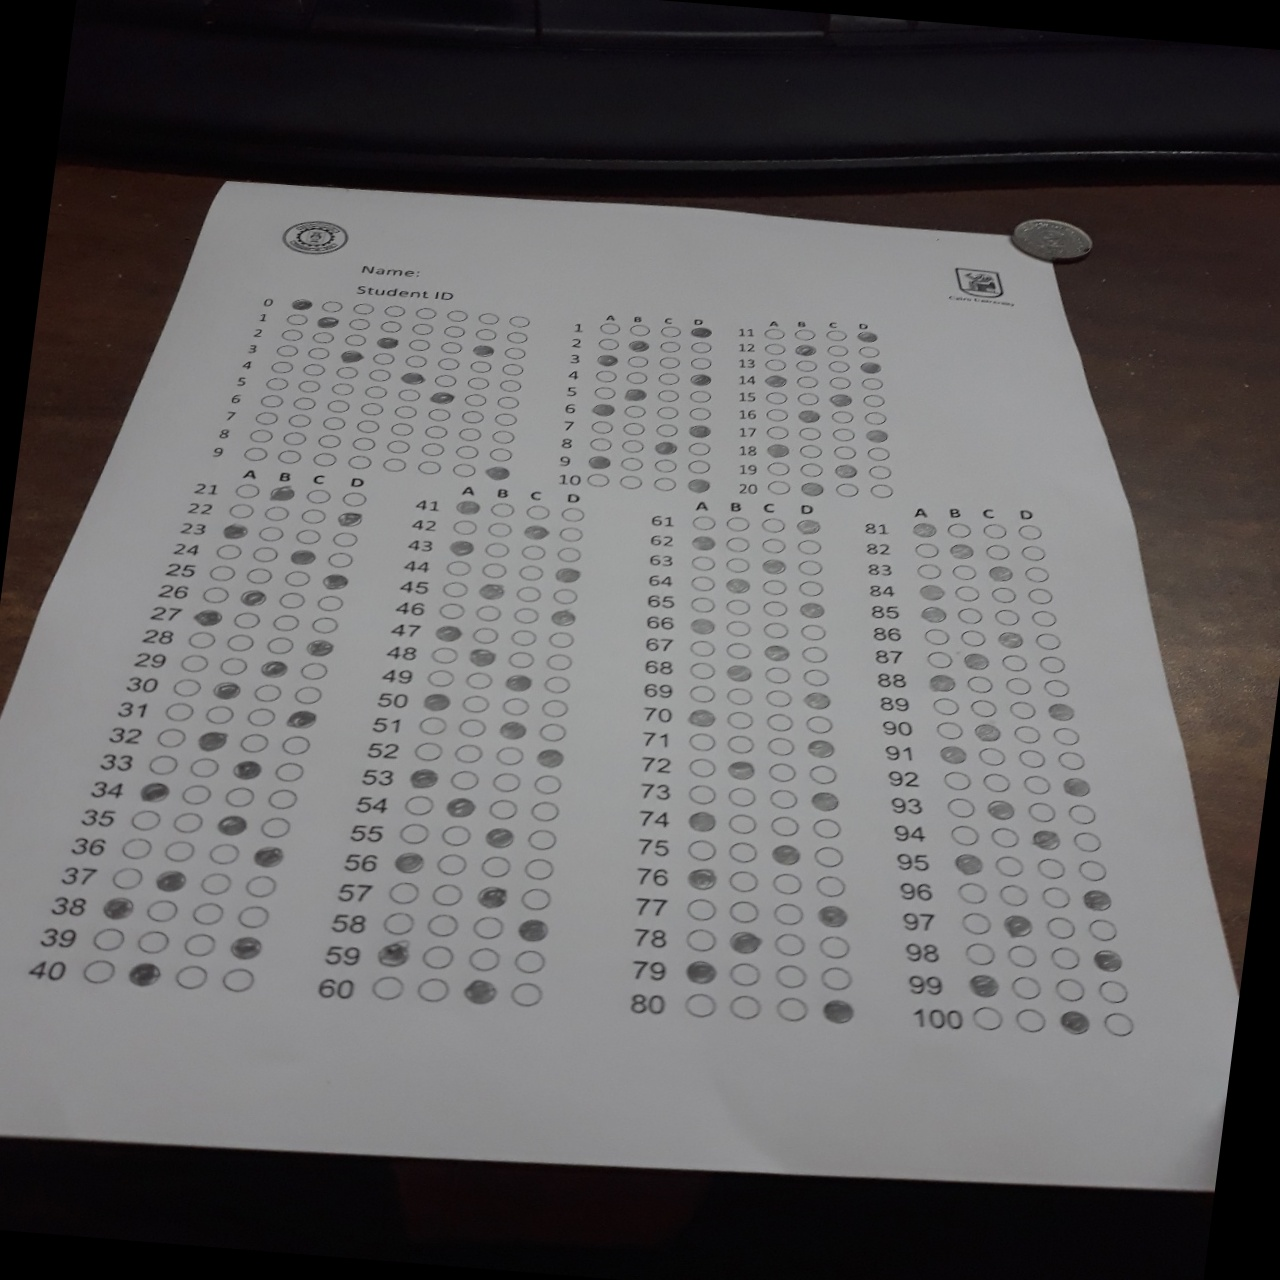not-c: (769, 899, 806, 927), (815, 932, 851, 960), (109, 863, 145, 891), (81, 958, 117, 986), (468, 944, 504, 972), (380, 908, 416, 937), (523, 853, 559, 881), (433, 851, 469, 879), (523, 825, 559, 853), (681, 896, 719, 922), (768, 870, 805, 897), (821, 965, 855, 994), (1101, 1010, 1136, 1039), (774, 961, 809, 989), (147, 896, 182, 924), (233, 901, 268, 930), (132, 926, 168, 954), (682, 926, 719, 953), (190, 899, 226, 926), (173, 964, 210, 990), (89, 926, 125, 953), (509, 980, 545, 1007), (512, 948, 549, 975), (482, 795, 518, 822), (726, 867, 763, 893), (1013, 1007, 1047, 1035), (969, 1005, 1003, 1033), (774, 994, 808, 1022), (728, 992, 762, 1020), (682, 990, 716, 1019), (727, 961, 761, 989), (771, 930, 805, 958), (220, 967, 256, 994), (370, 974, 406, 1001), (421, 942, 456, 969), (424, 911, 459, 938), (472, 914, 508, 941), (431, 880, 467, 907), (397, 818, 433, 845), (724, 898, 761, 924), (243, 872, 279, 898), (178, 931, 215, 956), (415, 976, 451, 1002), (387, 879, 423, 905), (516, 885, 552, 911), (531, 796, 567, 822), (479, 852, 515, 878), (442, 824, 477, 850), (998, 881, 1032, 907), (804, 762, 839, 787), (685, 755, 720, 779), (959, 910, 992, 935), (811, 844, 845, 869), (810, 815, 844, 839), (1085, 915, 1117, 941), (1006, 942, 1039, 967), (687, 837, 720, 862), (291, 683, 324, 708), (964, 941, 998, 965), (768, 813, 802, 837), (726, 812, 760, 836), (726, 840, 760, 864), (765, 762, 799, 785), (1049, 945, 1081, 969), (1097, 980, 1129, 1005), (955, 880, 988, 904), (1039, 885, 1071, 908), (1042, 915, 1075, 939), (1053, 978, 1085, 1001), (687, 783, 720, 806), (724, 785, 757, 809), (767, 787, 799, 810), (813, 874, 847, 897), (481, 536, 515, 558), (293, 524, 324, 549), (1024, 799, 1056, 823), (1010, 976, 1042, 1000), (244, 704, 275, 728), (207, 840, 239, 864), (279, 734, 309, 757), (179, 782, 210, 805), (200, 872, 231, 896), (948, 824, 980, 846), (993, 855, 1024, 877), (203, 704, 234, 727), (122, 836, 154, 858), (452, 743, 485, 764), (501, 694, 533, 715), (509, 602, 542, 624), (165, 699, 195, 722), (267, 788, 297, 811), (1015, 747, 1046, 769), (946, 796, 976, 818), (1035, 857, 1065, 879), (240, 731, 271, 754), (148, 753, 178, 775), (275, 760, 306, 782), (166, 839, 197, 862), (542, 697, 572, 720), (504, 648, 535, 670), (411, 741, 445, 761), (989, 828, 1021, 849), (537, 722, 568, 743), (544, 673, 576, 694), (517, 540, 549, 561), (445, 558, 477, 579), (438, 578, 470, 599), (493, 745, 526, 765), (1073, 830, 1102, 852), (1078, 859, 1108, 881), (188, 755, 217, 777), (261, 817, 291, 839), (130, 808, 159, 830), (173, 811, 203, 833), (1012, 723, 1042, 744), (1055, 750, 1085, 771), (981, 772, 1012, 794), (1021, 774, 1051, 795), (157, 726, 188, 747), (225, 785, 256, 806), (404, 794, 435, 815), (450, 768, 481, 789), (490, 771, 520, 792), (457, 717, 488, 738), (417, 714, 448, 735), (459, 692, 490, 713), (508, 625, 538, 646), (519, 561, 550, 583), (481, 558, 511, 579), (544, 651, 576, 670), (942, 769, 972, 790), (1065, 803, 1095, 824), (764, 735, 794, 756), (726, 709, 755, 730), (804, 712, 833, 733), (764, 686, 794, 707), (532, 774, 563, 794), (512, 584, 543, 604), (726, 686, 754, 707), (688, 659, 716, 680), (958, 628, 987, 648), (1051, 726, 1081, 745), (976, 745, 1006, 765), (688, 731, 717, 751), (726, 734, 755, 754), (760, 578, 790, 597), (470, 626, 501, 645), (474, 602, 504, 621), (1003, 675, 1032, 695), (1042, 678, 1070, 697), (969, 699, 998, 719), (932, 697, 960, 717), (767, 712, 795, 731), (689, 682, 717, 702), (724, 535, 753, 554), (213, 542, 241, 561), (331, 529, 359, 549), (275, 590, 304, 610), (688, 639, 717, 658), (795, 557, 824, 576), (795, 536, 824, 554), (209, 563, 238, 581), (202, 585, 231, 604), (232, 611, 261, 629), (246, 567, 275, 586), (299, 508, 328, 526), (302, 486, 332, 505), (339, 490, 368, 509), (326, 549, 355, 567), (284, 570, 313, 588), (314, 594, 343, 613), (268, 611, 298, 629), (265, 635, 294, 654), (218, 656, 247, 675), (300, 661, 329, 680), (436, 601, 465, 620), (430, 645, 459, 663), (556, 525, 585, 544), (463, 670, 493, 688), (486, 499, 517, 517), (1034, 632, 1062, 651), (922, 627, 951, 646), (926, 651, 954, 669), (966, 674, 994, 693), (1008, 701, 1036, 720), (802, 668, 830, 687), (797, 622, 825, 641), (724, 618, 753, 636), (689, 594, 717, 613), (724, 597, 753, 615), (690, 553, 719, 572), (724, 554, 753, 573), (760, 536, 788, 554), (724, 515, 753, 533), (252, 543, 280, 561), (254, 523, 282, 542), (311, 615, 339, 634), (227, 632, 256, 651), (186, 632, 215, 651), (173, 678, 202, 696), (547, 628, 576, 647), (524, 502, 552, 520), (1019, 543, 1048, 560), (761, 620, 790, 638), (253, 685, 282, 702), (427, 669, 456, 687), (552, 586, 581, 604), (553, 544, 583, 561), (556, 504, 585, 522), (485, 519, 515, 537), (449, 517, 478, 535), (937, 721, 964, 740), (764, 666, 791, 685), (1015, 523, 1043, 540), (980, 522, 1008, 539), (983, 543, 1012, 560), (1000, 653, 1028, 670), (724, 641, 753, 659), (799, 646, 828, 663), (760, 600, 788, 618), (797, 579, 825, 597), (688, 573, 716, 591), (689, 513, 717, 531), (760, 517, 788, 535), (764, 477, 792, 495), (263, 504, 291, 522), (179, 653, 207, 670), (942, 520, 972, 537), (949, 564, 979, 580), (1039, 656, 1065, 674), (465, 373, 492, 390), (911, 542, 939, 558), (1022, 566, 1050, 583), (1024, 587, 1053, 604), (953, 585, 981, 601), (1029, 610, 1057, 626), (915, 563, 942, 579), (990, 586, 1017, 602), (451, 463, 478, 479), (413, 302, 440, 319), (331, 379, 358, 395), (305, 343, 332, 360), (282, 428, 309, 444), (272, 341, 299, 358), (229, 501, 256, 517), (955, 607, 983, 622), (993, 608, 1021, 624), (835, 481, 860, 497), (597, 318, 622, 334), (490, 429, 516, 445), (461, 408, 486, 424), (409, 319, 435, 335), (359, 400, 384, 416), (311, 450, 336, 467), (316, 434, 342, 450), (322, 414, 348, 430), (350, 299, 376, 315), (301, 361, 327, 377), (297, 379, 322, 395), (287, 413, 313, 429), (268, 359, 294, 375), (284, 311, 309, 327), (491, 411, 518, 427), (458, 425, 485, 441), (241, 445, 268, 461), (869, 482, 893, 498), (867, 464, 892, 481), (794, 374, 818, 390), (653, 476, 678, 492), (620, 456, 645, 472), (626, 353, 651, 369), (381, 456, 406, 472), (396, 384, 421, 401), (292, 395, 316, 411), (260, 393, 285, 409), (765, 425, 791, 441), (618, 474, 644, 489), (659, 322, 685, 338), (625, 321, 651, 336), (624, 369, 649, 384), (597, 335, 622, 350), (488, 445, 513, 461), (452, 444, 478, 459), (462, 392, 488, 407), (425, 407, 451, 422), (414, 459, 440, 475), (386, 438, 411, 454), (388, 421, 414, 436), (354, 417, 380, 433), (347, 452, 373, 468), (343, 331, 369, 346), (336, 363, 362, 379), (347, 315, 373, 331), (318, 297, 343, 312), (309, 328, 335, 343), (277, 449, 302, 464), (247, 427, 273, 442), (278, 326, 304, 341), (232, 482, 258, 497), (799, 461, 823, 477), (862, 393, 885, 409), (763, 324, 787, 340), (794, 359, 821, 373), (392, 406, 418, 420), (377, 319, 404, 333), (350, 436, 377, 450), (866, 445, 891, 461), (833, 444, 858, 459), (798, 443, 823, 458), (798, 425, 823, 441), (831, 427, 856, 442), (830, 410, 855, 425), (862, 410, 886, 425), (829, 375, 853, 390), (764, 390, 789, 406), (653, 458, 678, 474), (622, 438, 647, 454), (655, 404, 680, 420), (656, 388, 681, 403), (656, 370, 681, 386), (658, 355, 682, 370), (658, 339, 682, 354), (587, 437, 612, 452), (593, 368, 618, 383), (422, 424, 447, 440), (422, 442, 447, 457), (372, 350, 396, 366), (368, 366, 393, 381), (253, 410, 278, 425), (689, 340, 715, 354), (688, 355, 714, 369), (403, 354, 429, 368), (381, 302, 407, 316), (363, 384, 389, 399), (264, 375, 290, 389), (764, 459, 788, 475), (860, 376, 884, 392), (764, 356, 788, 372), (622, 420, 646, 435), (654, 422, 678, 437), (622, 403, 646, 418), (796, 392, 821, 406), (764, 408, 789, 422), (826, 342, 851, 356), (687, 458, 712, 472), (593, 384, 618, 399), (591, 418, 615, 433), (585, 472, 610, 486), (408, 338, 433, 352), (327, 397, 352, 411), (762, 342, 788, 355), (856, 345, 881, 358), (688, 389, 714, 402), (470, 359, 493, 373), (474, 327, 497, 341), (442, 324, 465, 338), (436, 356, 459, 370), (434, 373, 457, 387), (794, 328, 818, 341), (823, 328, 847, 341), (826, 359, 851, 372), (688, 407, 713, 420), (687, 441, 712, 454), (498, 377, 520, 392), (478, 309, 501, 324), (445, 309, 469, 322), (441, 339, 464, 352), (502, 363, 525, 375), (506, 331, 527, 343), (498, 396, 519, 409), (509, 314, 530, 326), (505, 346, 526, 358)
taken-c: (685, 866, 722, 892), (683, 958, 720, 983), (686, 806, 719, 835), (815, 903, 849, 930), (464, 978, 498, 1005), (727, 930, 763, 954), (822, 998, 855, 1024), (393, 847, 425, 874), (375, 941, 409, 967), (409, 765, 443, 791), (483, 824, 517, 850), (1092, 948, 1124, 975), (969, 971, 1001, 998), (229, 935, 261, 961), (127, 961, 159, 987), (478, 883, 511, 908), (516, 915, 549, 941), (444, 794, 477, 819), (535, 745, 567, 771), (1081, 887, 1112, 913), (1001, 912, 1032, 938), (1061, 1009, 1091, 1035), (685, 706, 716, 730), (952, 851, 985, 874), (251, 845, 284, 869), (771, 842, 803, 865), (102, 896, 134, 919), (139, 781, 172, 803), (154, 869, 186, 891), (726, 757, 756, 781), (448, 536, 478, 559), (809, 790, 840, 812), (217, 813, 248, 836), (196, 731, 229, 753), (467, 644, 496, 667), (477, 579, 506, 602), (549, 605, 578, 628), (232, 758, 264, 779), (724, 662, 754, 685), (805, 737, 835, 760), (423, 689, 452, 712), (434, 622, 464, 644), (499, 719, 527, 741), (505, 669, 533, 692), (554, 563, 583, 585), (802, 688, 831, 709), (762, 642, 791, 663), (689, 615, 719, 636), (723, 574, 753, 595), (1062, 776, 1092, 796), (797, 601, 828, 621), (1046, 702, 1075, 722), (987, 563, 1016, 583), (947, 542, 976, 561), (910, 519, 939, 539), (919, 602, 948, 622), (927, 672, 956, 692), (973, 721, 1002, 741), (939, 744, 968, 764), (986, 799, 1015, 819), (1032, 830, 1061, 850), (761, 556, 790, 576), (998, 629, 1026, 649), (962, 651, 990, 670), (919, 583, 948, 601), (287, 709, 316, 728), (258, 660, 288, 678), (212, 682, 243, 700), (690, 535, 719, 553), (864, 427, 892, 445), (192, 608, 222, 626), (795, 516, 822, 535), (454, 498, 481, 517), (798, 479, 826, 497), (764, 442, 792, 459), (524, 522, 550, 540), (856, 359, 883, 376), (268, 484, 295, 502), (222, 520, 248, 538), (288, 549, 315, 566), (307, 639, 334, 656), (315, 313, 341, 331), (324, 572, 349, 590), (240, 587, 266, 605), (796, 408, 823, 424), (428, 389, 454, 406), (339, 346, 365, 362), (338, 511, 363, 527), (833, 463, 858, 479), (595, 353, 620, 369), (622, 386, 648, 401), (587, 454, 611, 470), (485, 463, 509, 479), (472, 342, 496, 359), (828, 392, 852, 407), (687, 324, 712, 339), (686, 478, 710, 493), (401, 369, 425, 384), (287, 294, 312, 309), (795, 342, 818, 358), (764, 373, 788, 388), (688, 372, 713, 386), (626, 338, 651, 352), (591, 402, 615, 416), (655, 440, 678, 455), (689, 424, 713, 438), (376, 335, 397, 350), (857, 331, 880, 343)
